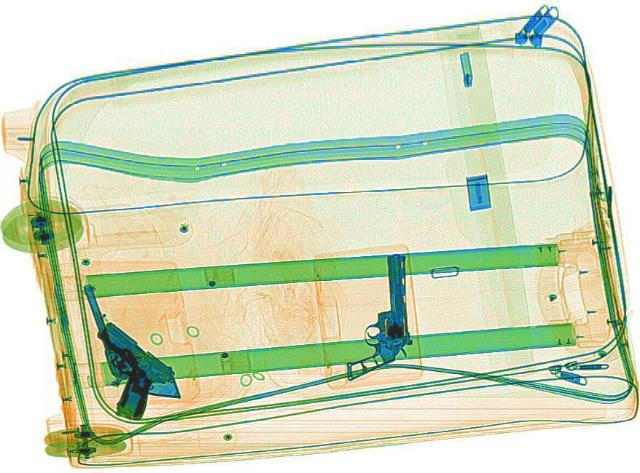Gun: (59, 279, 163, 424), (342, 246, 428, 386), (79, 320, 195, 406)
